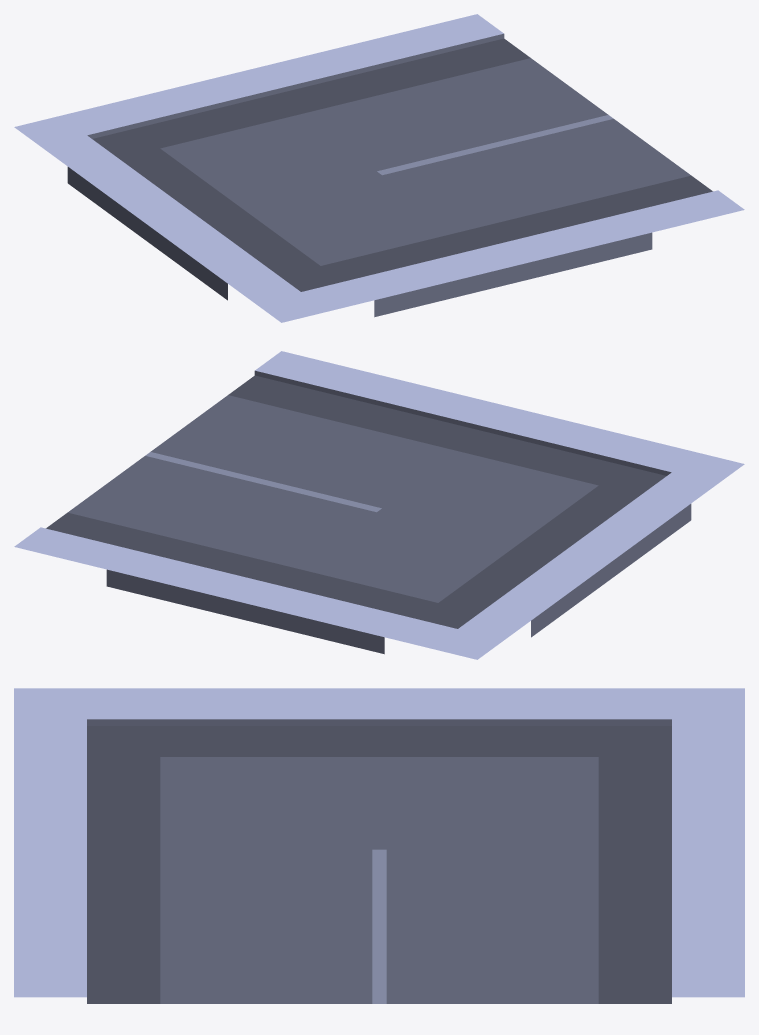
The model's file is road-end.glb.
3 renders of one model, top to bottom at view 1: azimuth 30°, elevation 25°; view 2: azimuth 150°, elevation 25°; view 3: azimuth 270°, elevation 25°, orthographic. The views are drawn at different scales.
Parts seen in each view (by area): view 1: road-end; view 2: road-end; view 3: road-end.
Boxes of the visible parts, x1,y1,x2,y2 form: road-end: (14,14,744,322); road-end: (14,351,744,659); road-end: (14,688,744,1003).
Size of the model in its own units: 1 by 0.035 by 1.
Materials: 1 (1 with a texture image).
